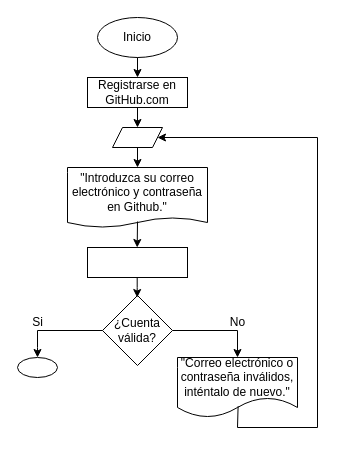
Image size: 343x453. Some labels were removed from this diagram. Here are the shapes that lost their labels. From the top down, the centre of each, then its label:
point (137, 137): Leer
point (137, 262): Introducir usuario, contraseña
point (37, 367): Fin
